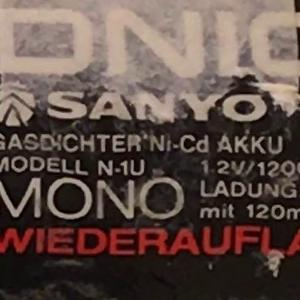keyword: (134, 125, 205, 156)
